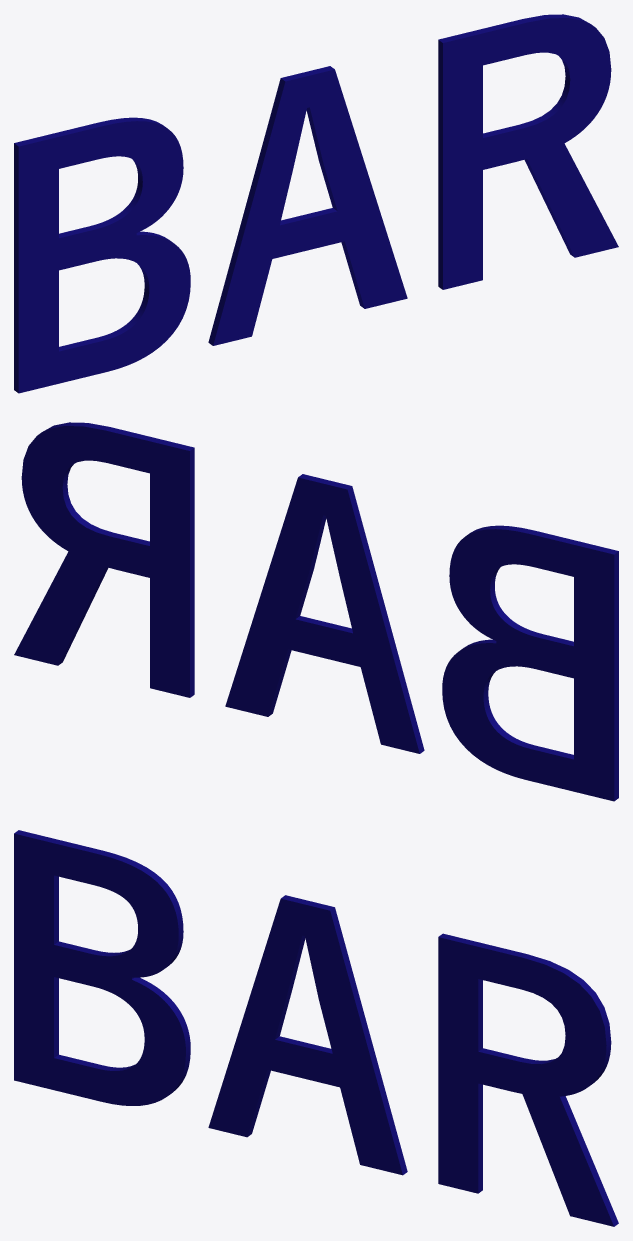
Rendered from Props12.fbx.
3 renders of one model, top to bottom at view 1: azimuth 30°, elevation 25°; view 2: azimuth 150°, elevation 25°; view 3: azimuth 330°, elevation 25°, orthographic.
Visible parts, largest first — view 1: Props12; view 2: Props12; view 3: Props12.
Boxes of the visible parts, x1,y1,x2,y2 form: Props12: [14, 14, 618, 393]; Props12: [14, 422, 618, 801]; Props12: [14, 830, 618, 1226].
Size of the model in its own units: 8.92 by 3.51 by 0.1224.
